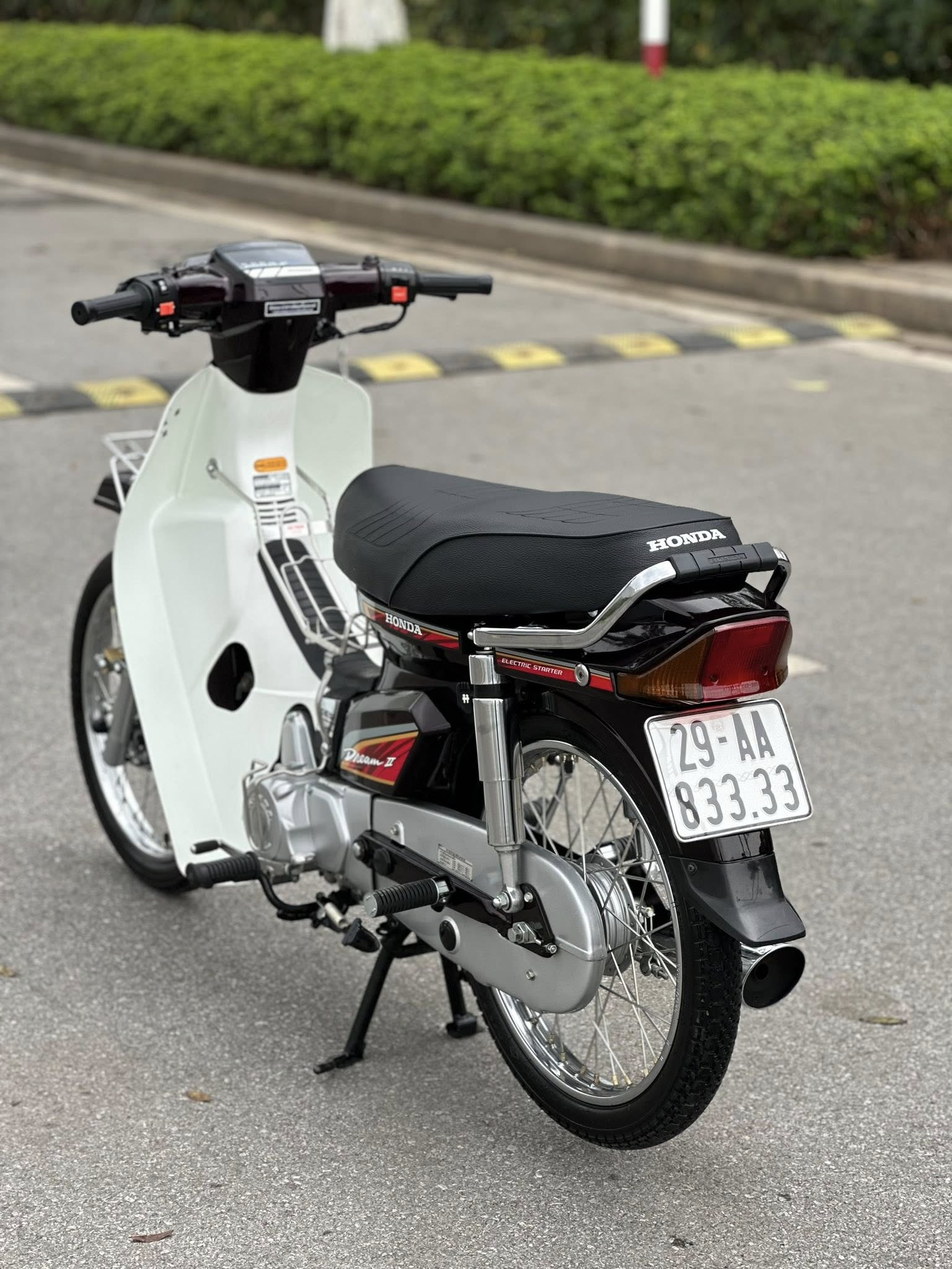bien_so: (639, 689, 817, 853)
